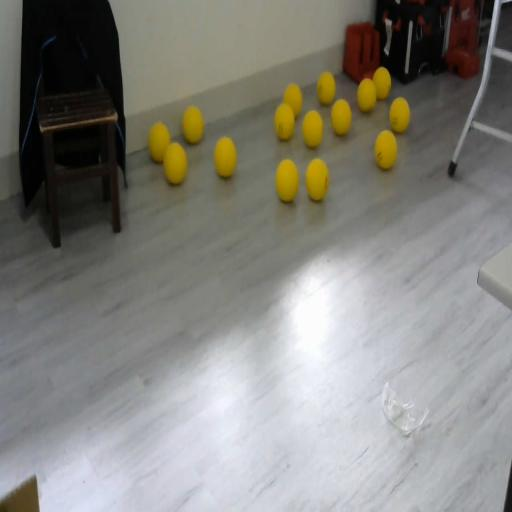FUEL: (162, 140, 188, 185), (275, 158, 300, 204), (305, 157, 329, 201), (374, 129, 397, 170), (214, 136, 236, 178), (301, 109, 324, 148), (148, 122, 170, 162), (182, 105, 204, 144), (330, 98, 352, 136), (282, 81, 303, 119), (390, 97, 410, 133), (316, 71, 336, 105), (372, 66, 392, 100), (357, 78, 376, 112)
